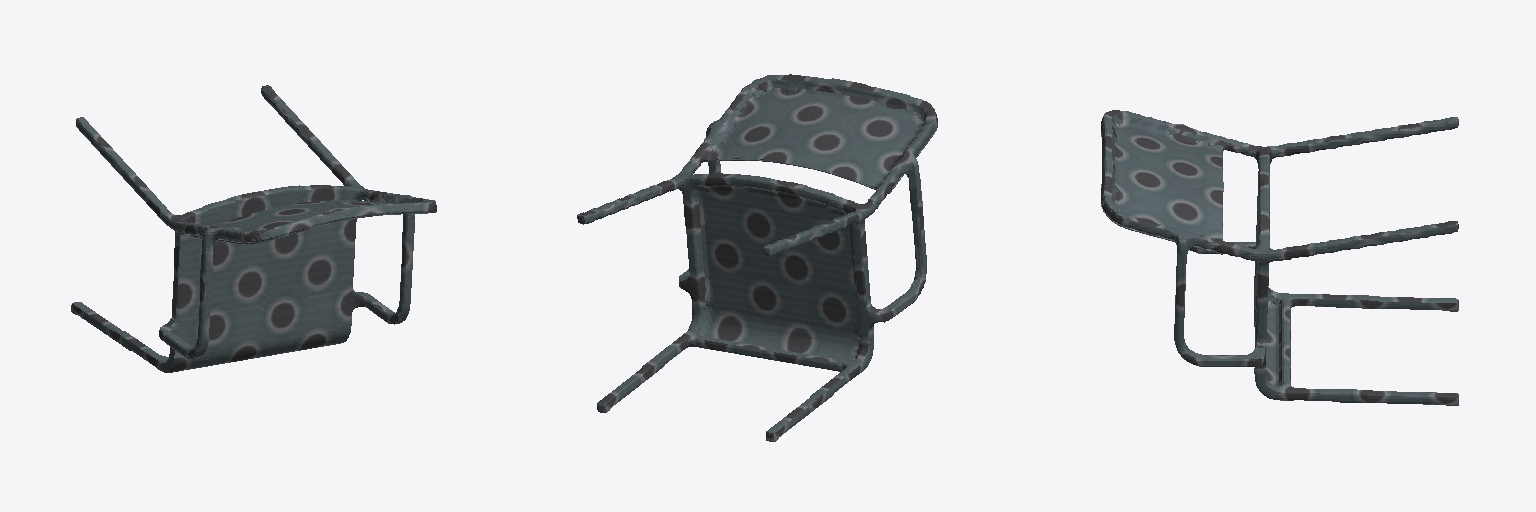
3 renders of one model, left to right at view 1: azimuth 30°, elevation 25°; view 2: azimuth 150°, elevation 25°; view 3: azimuth 270°, elevation 25°, orthographic.
Size of the model in its own units: 0.5546 by 0.5354 by 0.7861.
Materials: 1 (1 with a texture image).